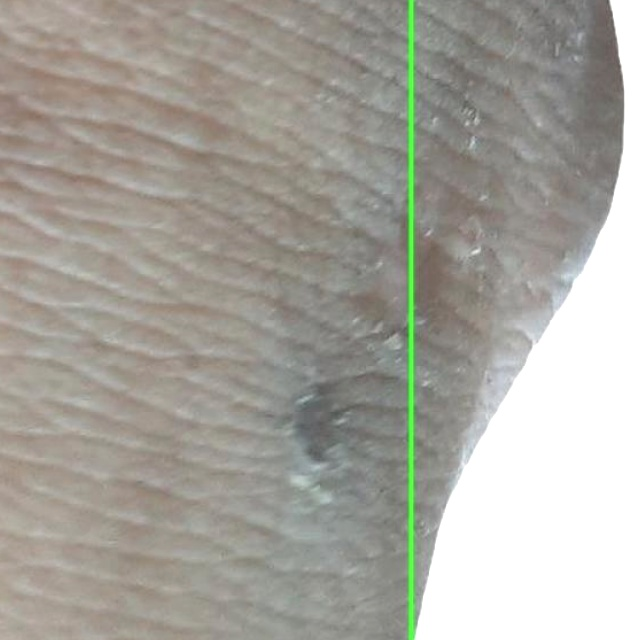Scabies: (409, 0, 639, 639)
